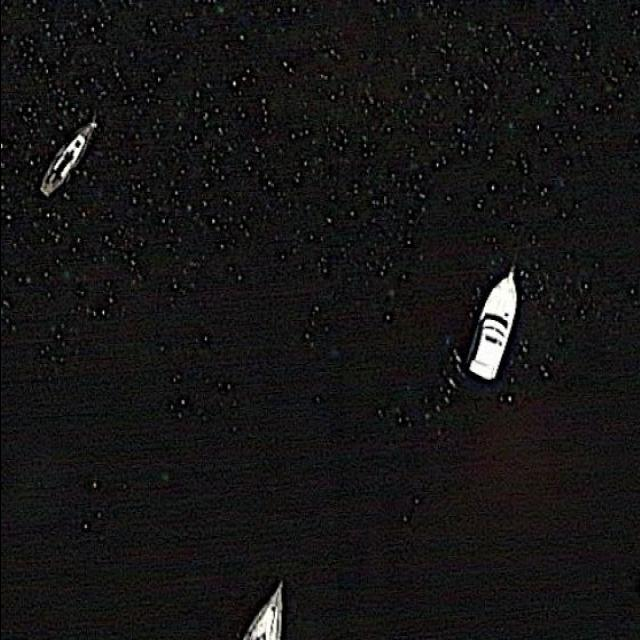ship: (466, 264, 518, 382), (38, 118, 101, 200)
